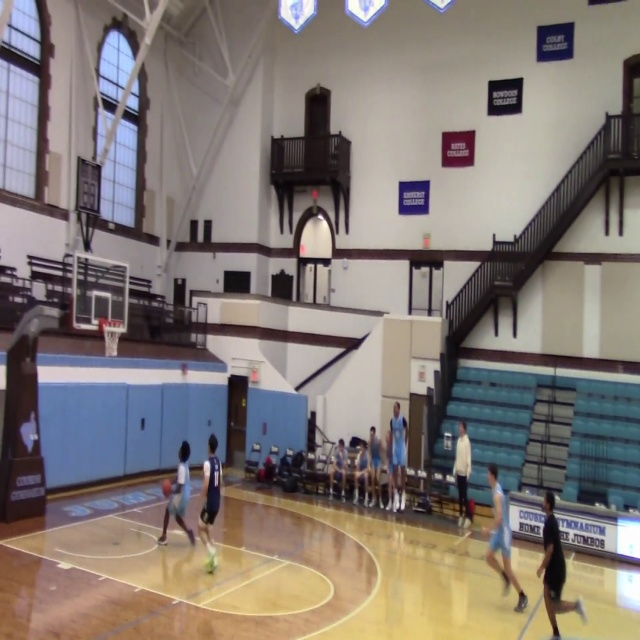Basketball: (162, 479, 172, 497)
